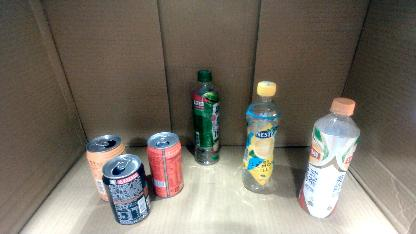Can: (102, 154, 152, 226), (86, 134, 126, 202), (146, 130, 184, 197)
Plastic Bottle: (299, 96, 361, 218), (240, 80, 282, 194), (190, 68, 223, 168)
